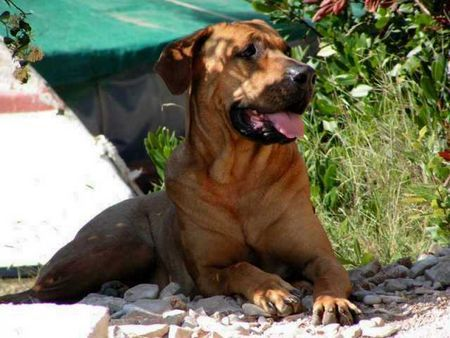tosa_inu: (0, 17, 361, 326)
